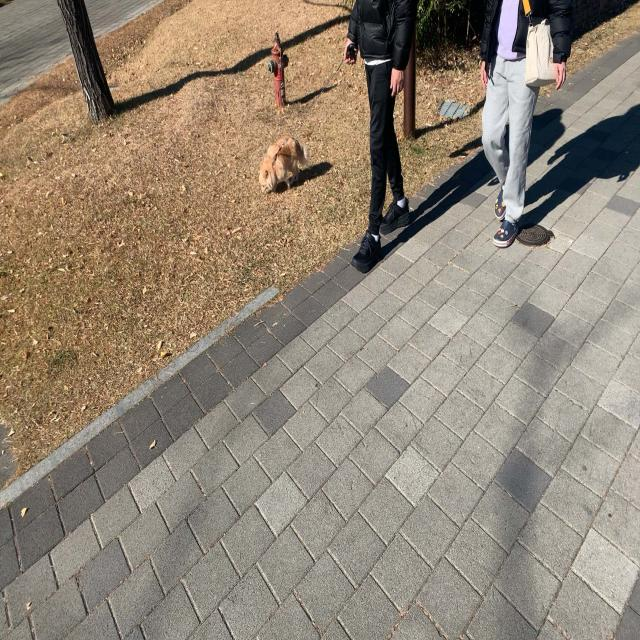Leashed_Dog: (258, 19, 382, 196)
